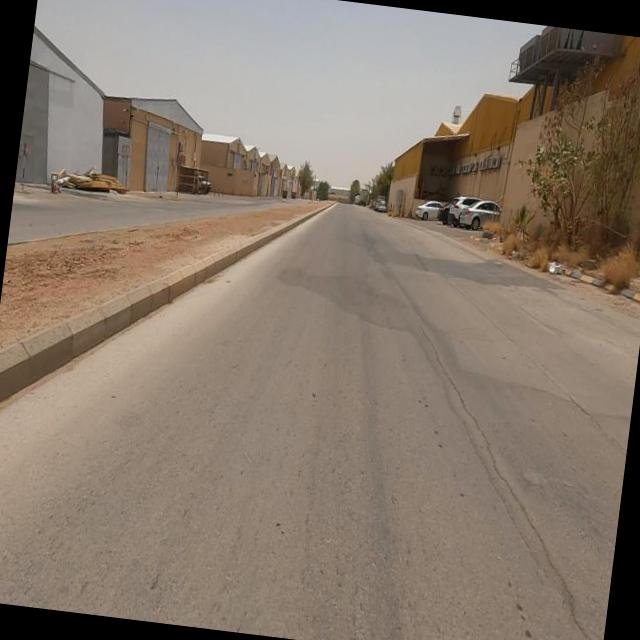debris: (518, 216, 590, 314)
